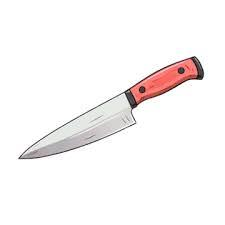Knife: (18, 55, 204, 159)
